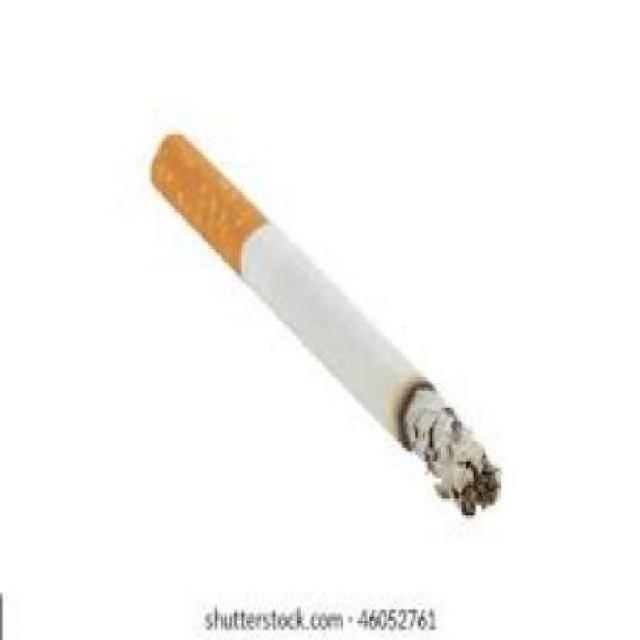cigarette: (133, 114, 527, 529)
